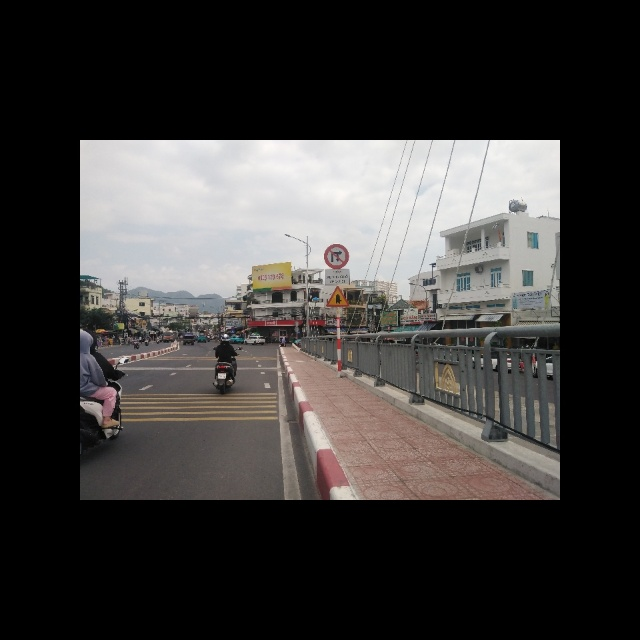Cấm quay đầu và rẽ phải: (324, 243, 350, 269)
Giao nhau với đường không ưu tiên: (327, 285, 351, 307)
